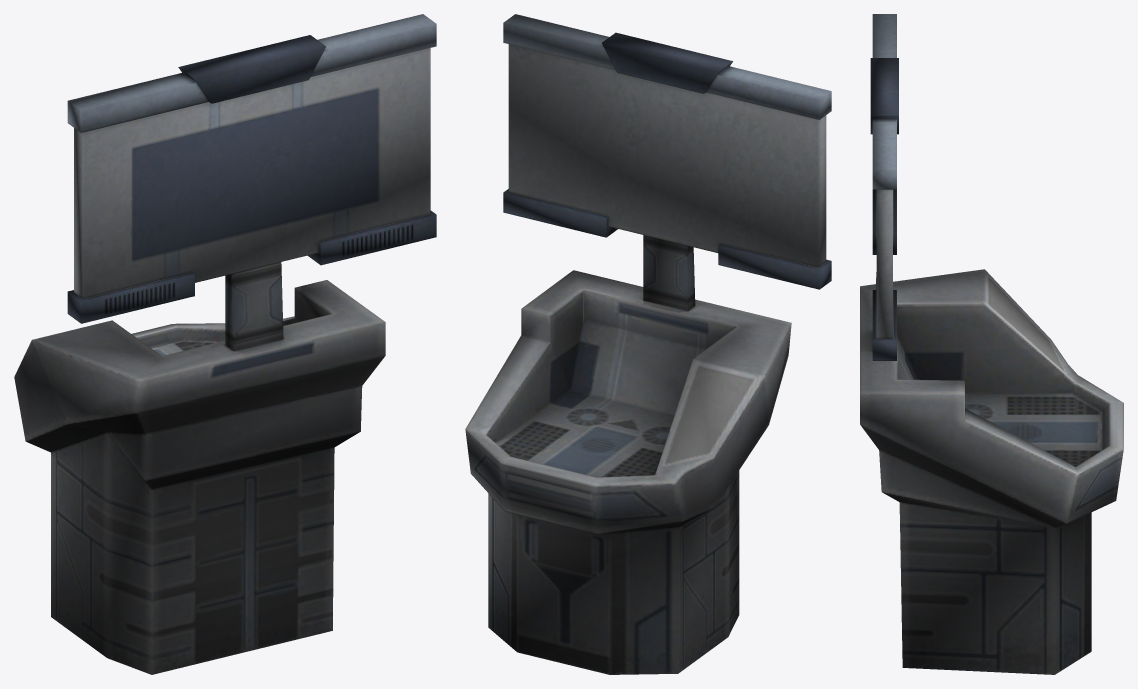
The model's file is nf_terminal1.glb.
3 renders of one model, left to right at view 1: azimuth 30°, elevation 25°; view 2: azimuth 150°, elevation 25°; view 3: azimuth 270°, elevation 25°, orthographic. The views are drawn at different scales.
Visible parts, largest first — view 1: objMesh; view 2: objMesh; view 3: objMesh.
Boxes of the visible parts, left/top/right/bottom form: objMesh: left=14, top=14, right=436, bottom=674; objMesh: left=465, top=14, right=831, bottom=674; objMesh: left=860, top=14, right=1123, bottom=674.
Bounding box in the file's own units: 12.16 × 19.72 × 8.71.
Materials: 1 (1 with a texture image).
